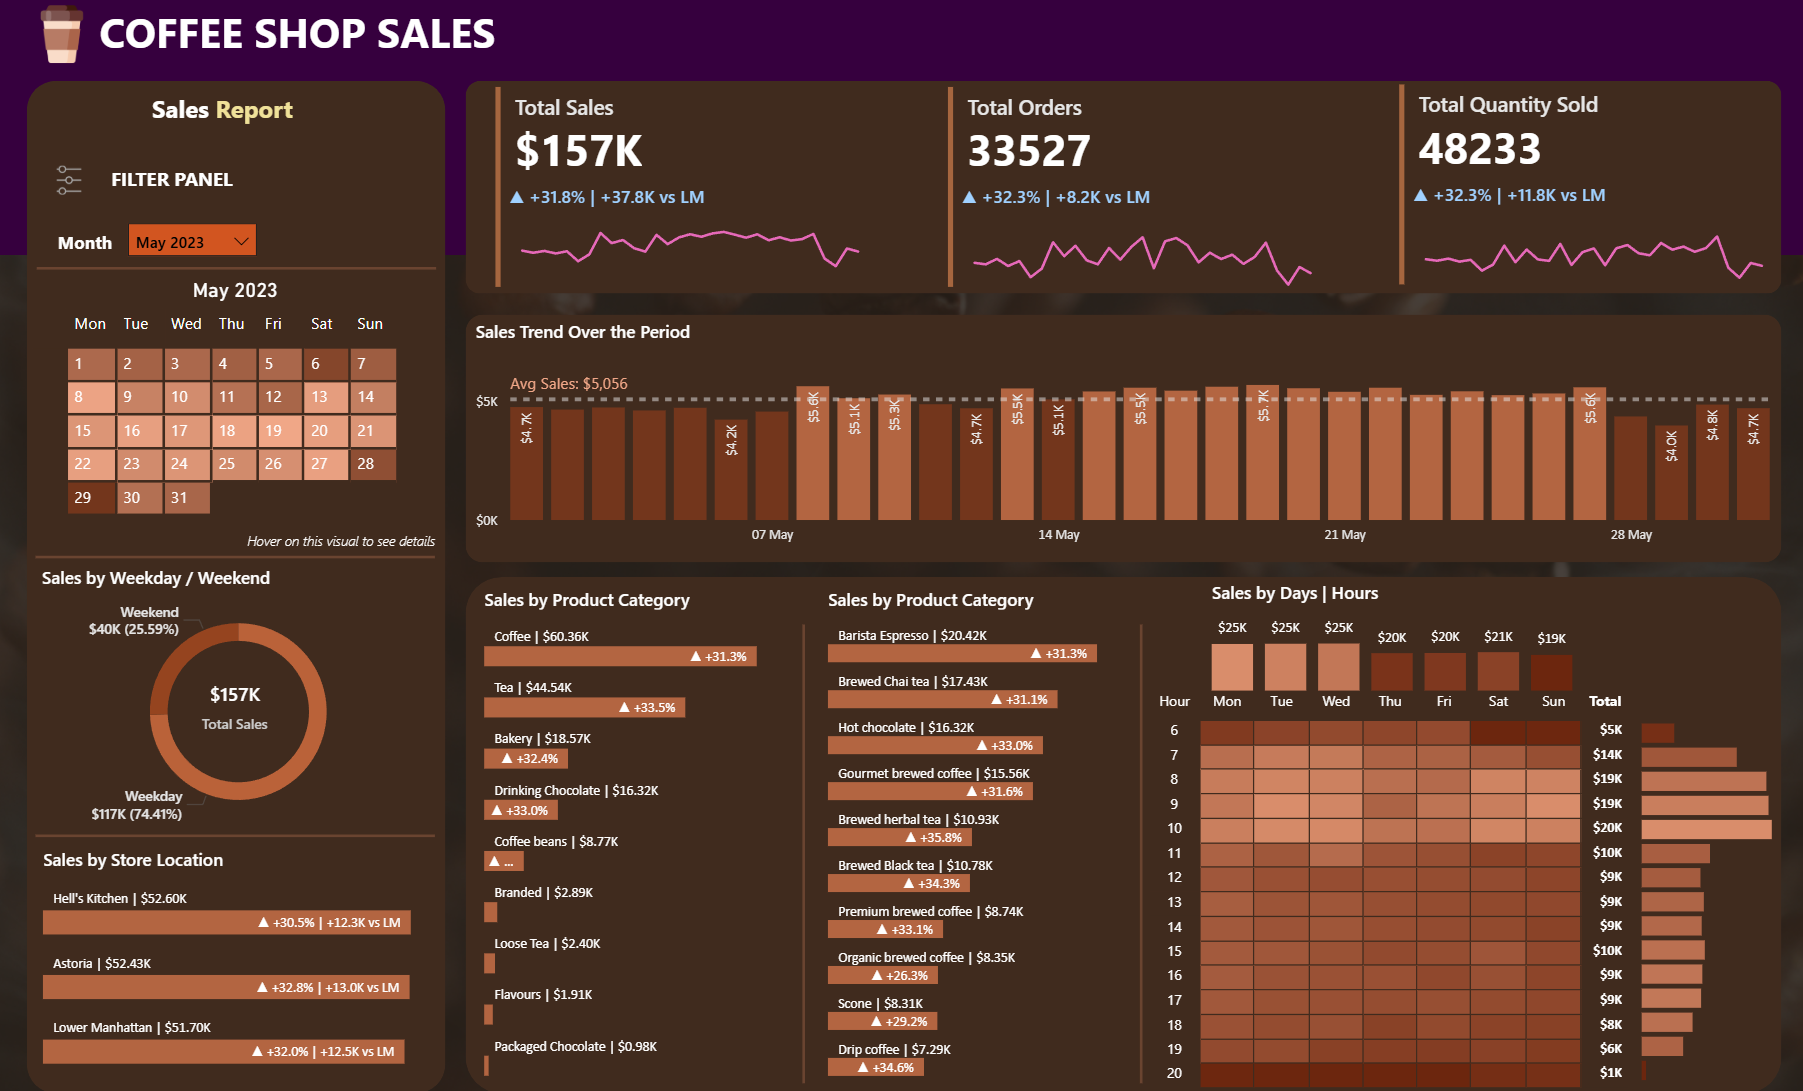

The dashboard page shown, as its layout file describes it:
{"tool":"powerbi","page":{"name":"Page 1","canvas":[1400,850],"ordinal":0},"visuals":[{"type":"shape","box":[0,0,1400.2,200.2],"z":0},{"type":"shape","box":[22.3,65.1,324.5,785.1],"z":1000},{"type":"shape","box":[362.4,65.1,1020.2,165.2],"z":2000},{"type":"textbox","box":[73.8,0,317.7,55.4],"z":3000},{"type":"cardVisual","fields":{"Data":["Transactions.Total Quantity Sold"]},"box":[1081.5,63.2,300.2,165.2],"z":4000,"group":"g3"},{"type":"cardVisual","fields":{"Data":["Transactions.Total Sales"]},"box":[380.9,65.1,300.2,165.2],"z":4000,"group":"g1"},{"type":"cardVisual","fields":{"Data":["Transactions.Total Orders"]},"box":[731.2,65.1,300.2,165.2],"z":4000,"group":"g2"},{"type":"slicer","fields":{"Values":["Date Table.Month Year"]},"box":[96.2,171,109.8,36.9],"z":4000},{"type":"group","id":"g1","title":"Group 1","box":[380.9,65.1,301.2,165.2],"z":5000},{"type":"lineChart","fields":{"Category":["Date Table.Date.Variation.Date Hierarchy.Year","Date Table.Date.Variation.Date Hierarchy.Quarter","Date Table.Date.Variation.Date Hierarchy.Month","Date Table.Date.Variation.Date Hierarchy.Day"],"Y":["Transactions.Total Quantity Sold"]},"box":[1092.2,143.8,290.5,84.5],"z":5001,"group":"g3"},{"type":"lineChart","fields":{"Category":["Date Table.Date.Variation.Date Hierarchy.Year","Date Table.Date.Variation.Date Hierarchy.Quarter","Date Table.Date.Variation.Date Hierarchy.Month","Date Table.Date.Variation.Date Hierarchy.Day"],"Y":["Transactions.Total Sales"]},"box":[391.6,145.7,290.5,84.5],"z":5001,"group":"g1"},{"type":"lineChart","fields":{"Category":["Date Table.Date.Variation.Date Hierarchy.Year","Date Table.Date.Variation.Date Hierarchy.Quarter","Date Table.Date.Variation.Date Hierarchy.Month","Date Table.Date.Variation.Date Hierarchy.Day"],"Y":["Transactions.Total Orders"]},"box":[741.9,145.7,290.5,84.5],"z":5001,"group":"g2"},{"type":"group","id":"g2","title":"Group 1","box":[731.2,65.1,301.2,165.2],"z":6000},{"type":"group","id":"g3","title":"Group 1","box":[1081.5,63.2,301.2,165.2],"z":7000},{"type":"pivotTable","fields":{"Rows":["Date Table.Week Number"],"Columns":["Date Table.Day Name"],"Values":["Min(Date Table.Day Number)"]},"box":[22.3,236.1,305.1,202.1],"z":8000},{"type":"card","fields":{"Values":["Min(Date Table.Month Year)"]},"box":[135.1,209.9,99.1,36],"z":9000},{"type":"card","fields":{"Values":["Transactions.Foot Note"]},"box":[174.9,408.1,183.6,33],"z":10000},{"type":"shape","box":[29.1,418.8,310,31.1],"z":11000},{"type":"shape","box":[30.1,194.3,310,31.1],"z":12000},{"type":"donutChart","title":"Sales by Weekday / Weekend","fields":{"Category":["Date Table.Weekday / Weekend"],"Y":["Transactions.Total Sales"]},"box":[29.1,441.1,314.8,208.9],"z":13000},{"type":"card","fields":{"Values":["Transactions.Total Sales"]},"box":[134.1,526.6,100.1,46.6],"z":14000},{"type":"shape","box":[29.1,634.5,310,31.1],"z":15000},{"type":"clusteredBarChart","title":"Sales by Store Location","fields":{"Category":["Transactions.store_location"],"Y":["Transactions.Placeholder","Transactions.Total Sales"]},"box":[30.1,658.8,320.6,175.9],"z":16000},{"type":"shape","box":[362.4,449.9,1020.2,400.3],"z":17000},{"type":"shape","box":[362.4,245.8,1020.2,192.4],"z":18000},{"type":"columnChart","title":"Sales Trend Over the Period","fields":{"Category":["Transactions.transaction_date"],"Y":["Transactions.Total Sales"]},"box":[365.3,249.7,1017.3,183.6],"z":19000},{"type":"clusteredBarChart","title":"Sales by Product Category","fields":{"Y":["Transactions.Placeholder","Transactions.Total Sales"],"Category":["Transactions.product_category"]},"box":[372.1,457.6,249.7,384.8],"z":20000},{"type":"shape","box":[608.3,486.8,32.1,355.6],"z":21000},{"type":"clusteredBarChart","title":"Sales by Product Category","fields":{"Y":["Transactions.Placeholder","Transactions.Total Sales"],"Category":["Transactions.product_type"]},"box":[638.4,457.6,249.7,384.8],"z":22000},{"type":"shape","box":[870.6,486.8,32.1,355.6],"z":23000},{"type":"pivotTable","fields":{"Rows":["Transactions.Hour"],"Columns":["Date Table.Day Name"],"Values":["Transactions.Total Sales"]},"box":[887.1,533.4,385.7,316.8],"z":24000},{"type":"barChart","fields":{"Category":["Transactions.Hour"],"Y":["Transactions.Total Sales"]},"box":[1269,550,112.7,294.4],"z":25000},{"type":"columnChart","title":"Sales by Days | Hours","fields":{"Y":["Transactions.Total Sales"],"Category":["Date Table.Day Name"]},"box":[935.7,452.8,290.5,91.3],"z":26000},{"type":"textbox","box":[31.1,176.8,72.9,32.1],"z":27000},{"type":"textbox","box":[114.7,69,143.8,35],"z":28000},{"type":"textbox","box":[73.8,126.3,122.4,35],"z":29000},{"type":"image","box":[36,126.3,37.9,32.1],"z":30000},{"type":"image","box":[22.3,0,54.4,58.3],"z":31000}]}

Visuals, with their boxes in screenshot pixels (x1, y1, x2, y2), scaled from the page's 1400x850 canvas onto the 1803x1091 screenshot:
shape: bbox=[0, 0, 1802, 257]
shape: bbox=[29, 84, 447, 1090]
shape: bbox=[467, 84, 1781, 296]
textbox: bbox=[95, 0, 504, 71]
cardVisual - Transactions.Total Quantity Sold: bbox=[1393, 81, 1779, 293]
cardVisual - Transactions.Total Sales: bbox=[491, 84, 877, 296]
cardVisual - Transactions.Total Orders: bbox=[942, 84, 1328, 296]
slicer - Date Table.Month Year: bbox=[124, 219, 265, 267]
"Group 1" group: bbox=[491, 84, 878, 296]
lineChart - Date Table.Date.Variation.Date Hierarchy.Year x Date Table.Date.Variation.Date Hierarchy.Quarter: bbox=[1407, 185, 1781, 293]
lineChart - Date Table.Date.Variation.Date Hierarchy.Year x Date Table.Date.Variation.Date Hierarchy.Quarter: bbox=[504, 187, 878, 295]
lineChart - Date Table.Date.Variation.Date Hierarchy.Year x Date Table.Date.Variation.Date Hierarchy.Quarter: bbox=[955, 187, 1330, 295]
"Group 1" group: bbox=[942, 84, 1330, 296]
"Group 1" group: bbox=[1393, 81, 1781, 293]
pivotTable - Date Table.Week Number x Date Table.Day Name: bbox=[29, 303, 422, 562]
card - Min(Date Table.Month Year): bbox=[174, 269, 302, 316]
card - Transactions.Foot Note: bbox=[225, 524, 462, 566]
shape: bbox=[37, 538, 437, 577]
shape: bbox=[39, 249, 438, 289]
"Sales by Weekday / Weekend" donutChart: bbox=[37, 566, 443, 834]
card - Transactions.Total Sales: bbox=[173, 676, 302, 736]
shape: bbox=[37, 814, 437, 854]
"Sales by Store Location" clusteredBarChart: bbox=[39, 846, 452, 1071]
shape: bbox=[467, 577, 1781, 1090]
shape: bbox=[467, 315, 1781, 562]
"Sales Trend Over the Period" columnChart: bbox=[470, 320, 1781, 556]
"Sales by Product Category" clusteredBarChart: bbox=[479, 587, 801, 1081]
shape: bbox=[783, 625, 825, 1081]
"Sales by Product Category" clusteredBarChart: bbox=[822, 587, 1144, 1081]
shape: bbox=[1121, 625, 1163, 1081]
pivotTable - Transactions.Hour x Date Table.Day Name: bbox=[1142, 685, 1639, 1090]
barChart - Transactions.Hour x Transactions.Total Sales: bbox=[1634, 706, 1779, 1084]
"Sales by Days | Hours" columnChart: bbox=[1205, 581, 1579, 698]
textbox: bbox=[40, 227, 134, 268]
textbox: bbox=[148, 89, 333, 133]
textbox: bbox=[95, 162, 253, 207]
image: bbox=[46, 162, 95, 203]
image: bbox=[29, 0, 99, 75]
